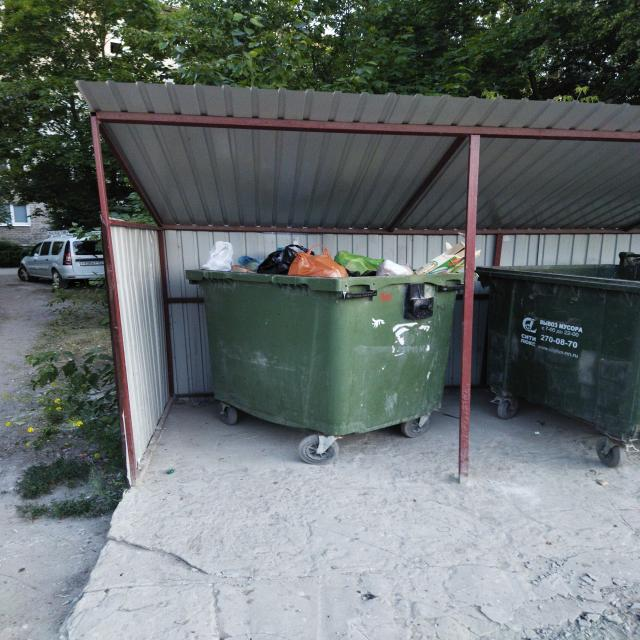bin: (195, 270, 466, 437), (480, 265, 639, 447)
plastic: (200, 238, 463, 275), (618, 250, 639, 273)
